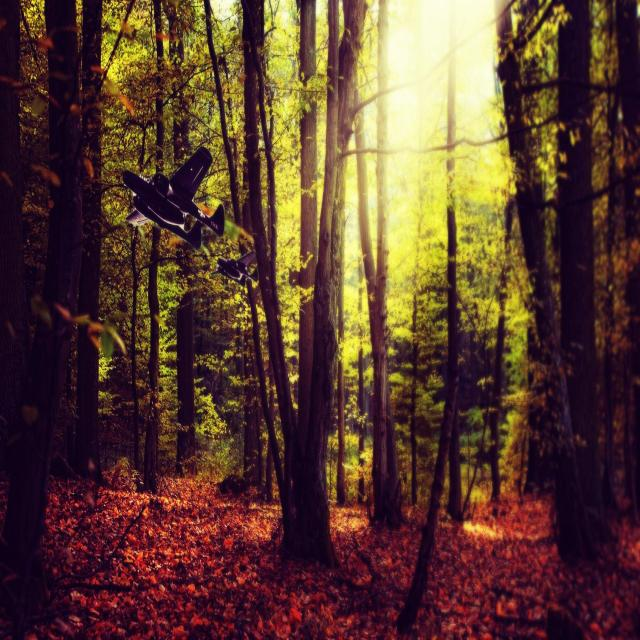airplane: (121, 145, 225, 250), (212, 248, 258, 287)
